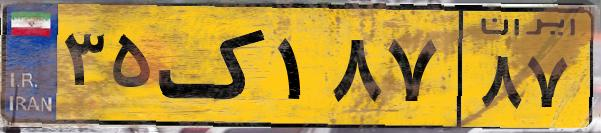1: (270, 28, 330, 110)
3: (57, 26, 110, 100)
5: (110, 28, 158, 98)
7: (385, 28, 445, 110), (525, 38, 570, 115)
8: (330, 28, 385, 110), (475, 38, 525, 113)
ک: (158, 12, 270, 120)
